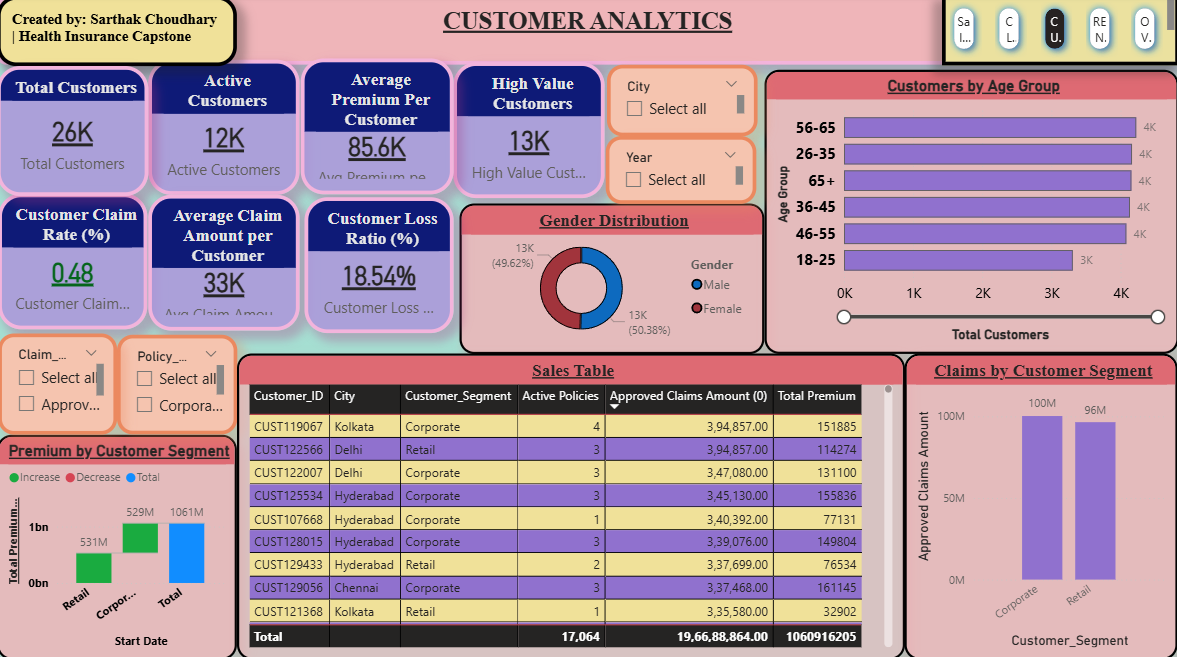

The page's visual inventory and layout, read from the dashboard file:
{"tool":"powerbi","page":{"name":"CUSTOMER ANALYTICS","canvas":[1280,720],"ordinal":3},"visuals":[{"type":"textbox","box":[0,0,1280.3,74.1],"z":0},{"type":"card","title":"Active Customers","fields":{"Values":["All Measures.Active Customers"]},"box":[163.8,69.6,163.8,146.4],"z":1000},{"type":"card","title":"High Value Customers","fields":{"Values":["All Measures.High Value Customers"]},"box":[494.4,71.4,164.3,147.2],"z":2000},{"type":"card","title":"Customer Claim Rate (%) ","fields":{"Values":["All Measures.Customer Claim Rate %"]},"box":[1.4,214.3,161.5,147.2],"z":3000},{"type":"card","title":"Average Claim Amount per Customer","fields":{"Values":["All Measures.Avg Claim Amount per Customer"]},"box":[164.3,215.8,164.3,147.2],"z":4000},{"type":"donutChart","title":"Gender Distribution","fields":{"Category":["dim_customer.Gender"],"Y":["All Measures.Total Customers"]},"box":[501.1,224.4,330.5,163],"z":5000},{"type":"waterfallChart","title":"Premium by Customer Segment","fields":{"Category":["dim_customer.Customer_Segment"],"Y":["All Measures.Total Premium"]},"box":[0,475.5,260.1,243.9],"z":6000},{"type":"clusteredBarChart","title":"Customers by Age Group","fields":{"Y":["All Measures.Total Customers"],"Category":["dim_customer.Age Group"]},"box":[831.6,79.3,448.7,308.1],"z":7000},{"type":"slicer","fields":{"Values":["dim_customer.City"]},"box":[661.1,74.8,163,77.8],"z":8000},{"type":"slicer","fields":{"Values":["fact_policies.Policy_Type"]},"box":[130.1,367.1,130.1,108.4],"z":9000},{"type":"slicer","fields":{"Values":["Date Table.Year"]},"box":[659.6,151.1,163,73.3],"z":10000},{"type":"textbox","box":[0,0,260.1,75.9],"z":11000},{"type":"tableEx","title":"Sales Table","fields":{"Values":["dim_customer.Customer_ID","dim_customer.City","dim_customer.Customer_Segment","All Measures.Active Policies","All Measures.Approved Claims Amount (0)","All Measures.Total Premium"]},"box":[260.2,387.4,723.9,332],"z":12000},{"type":"card","title":"Total Customers","fields":{"Values":["All Measures.Total Customers"]},"box":[0,75.4,163.8,140.6],"z":13000},{"type":"pageNavigator","box":[1023.7,0,256.6,75.4],"z":14000},{"type":"card","title":"Average Premium Per Customer","fields":{"Values":["All Measures.Avg Premium per Customer"]},"box":[328.6,67.2,165.8,147.2],"z":15000},{"type":"card","title":"Customer Loss Ratio (%) ","fields":{"Values":["All Measures.Customer Loss Ratio %"]},"box":[332.9,218.6,161.5,147.2],"z":16000},{"type":"slicer","fields":{"Values":["fact_claims.Claim_Status"]},"box":[1.4,365.8,128.7,109.7],"z":17000},{"type":"columnChart","title":"Claims by Customer Segment","fields":{"Category":["dim_customer.Customer_Segment"],"Y":["All Measures.Approved Claims Amount"]},"box":[984.2,387.4,296.1,332],"z":18000}]}

Visuals, with their boxes in screenshot pixels (x1, y1, x2, y2), scaled from the page's 1280x720 canvas onto the 1177x657 screenshot:
textbox: [0, 0, 1176, 68]
"Active Customers" card: [151, 64, 301, 197]
"High Value Customers" card: [455, 65, 606, 199]
"Customer Claim Rate (%) " card: [1, 196, 150, 330]
"Average Claim Amount per Customer" card: [151, 197, 302, 331]
"Gender Distribution" donutChart: [461, 205, 765, 354]
"Premium by Customer Segment" waterfallChart: [0, 434, 239, 656]
"Customers by Age Group" clusteredBarChart: [765, 72, 1176, 354]
slicer - dim_customer.City: [608, 68, 758, 139]
slicer - fact_policies.Policy_Type: [120, 335, 239, 434]
slicer - Date Table.Year: [607, 138, 756, 205]
textbox: [0, 0, 239, 69]
"Sales Table" tableEx: [239, 354, 905, 656]
"Total Customers" card: [0, 69, 151, 197]
pageNavigator: [941, 0, 1176, 69]
"Average Premium Per Customer" card: [302, 61, 455, 196]
"Customer Loss Ratio (%) " card: [306, 199, 455, 334]
slicer - fact_claims.Claim_Status: [1, 334, 120, 434]
"Claims by Customer Segment" columnChart: [905, 354, 1176, 656]
